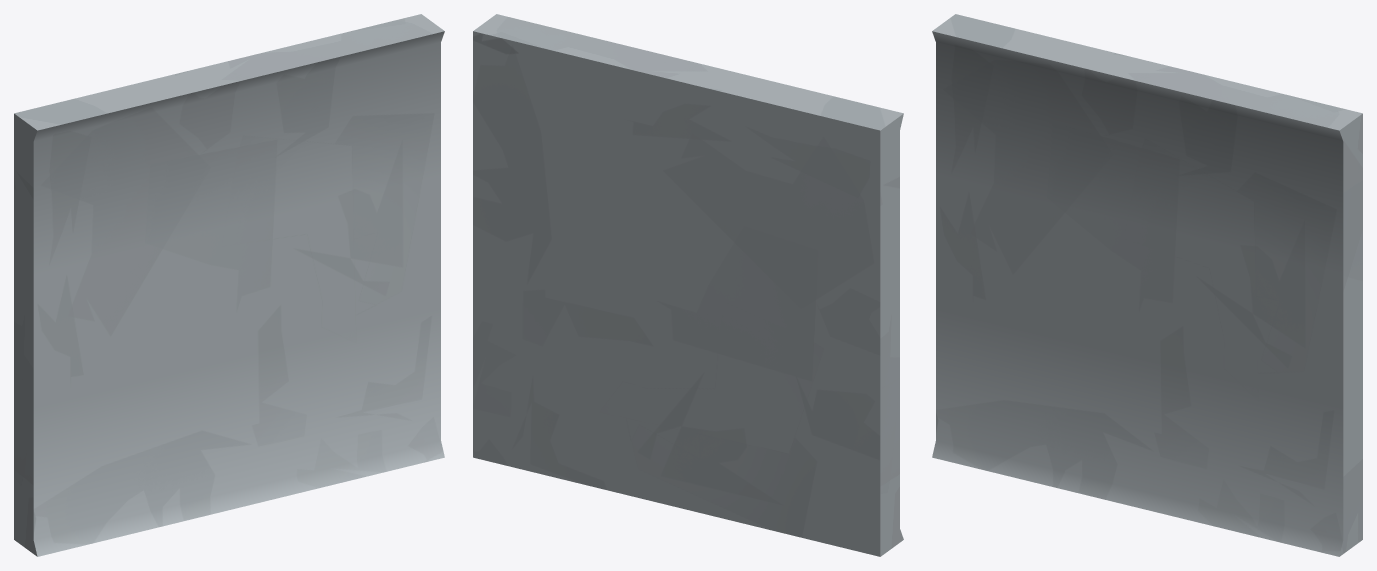
The model's file is Wall_1.glb.
3 views of the same model, side by side, from view 1: azimuth 30°, elevation 25°; view 2: azimuth 150°, elevation 25°; view 3: azimuth 330°, elevation 25° (orthographic).
Parts seen in each view (by area): view 1: Wall_1; view 2: Wall_1; view 3: Wall_1.
Part boxes in pixels (x1,y1,x2,y2): Wall_1: [14, 14, 444, 556]; Wall_1: [473, 14, 903, 556]; Wall_1: [932, 14, 1362, 556].
Bounding box in the file's own units: 2 × 2 × 0.2.
Materials: 1 (1 with a texture image).
